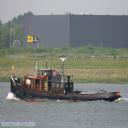tugboat: (11, 58, 123, 106)
